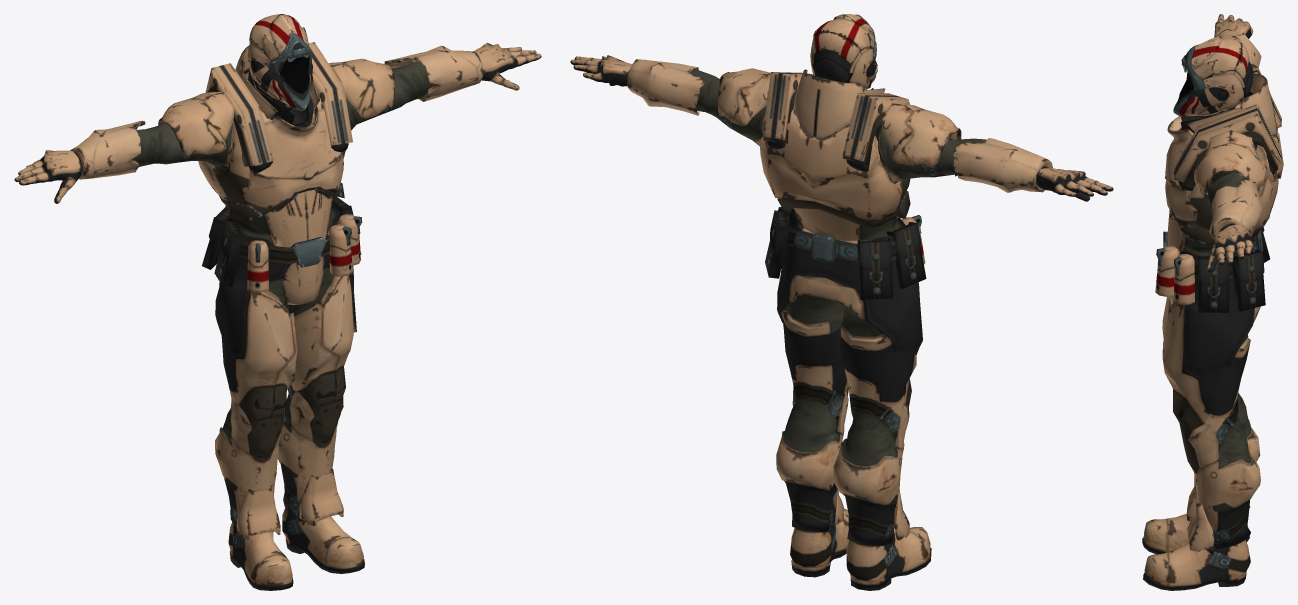
File: Soldier.glb
The picture shows the model from 3 angles, left to right: view 1: azimuth 30°, elevation 25°; view 2: azimuth 150°, elevation 25°; view 3: azimuth 270°, elevation 25°; orthographic projection. The views are drawn at different scales.
Parts seen in each view (by area): view 1: vanguard_Mesh; view 2: vanguard_Mesh; view 3: vanguard_Mesh.
Part boxes in pixels (box(x1,y1,x2,y2)): vanguard_Mesh: box(14, 14, 541, 590); vanguard_Mesh: box(570, 14, 1113, 590); vanguard_Mesh: box(1142, 14, 1283, 590).
Bounding box in the file's own units: 1.85 × 1.83 × 0.4439.
1 material, 1 textured.
